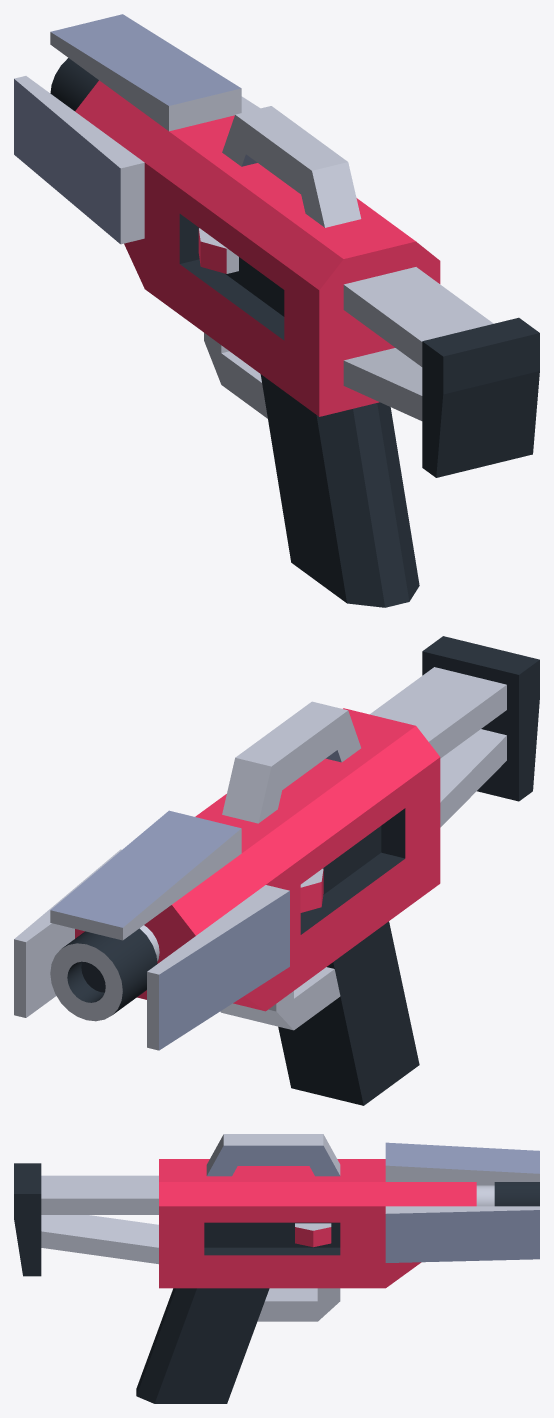
The model's file is blasterN.obj.
3 views of the same model, one above another, from view 1: azimuth 30°, elevation 25°; view 2: azimuth 150°, elevation 25°; view 3: azimuth 270°, elevation 25° (orthographic). The views are drawn at different scales.
Parts seen in each view (by area): view 1: blasterN; view 2: blasterN; view 3: blasterN.
Boxes of the visible parts, left/top/right/bottom form: blasterN: left=14, top=14, right=539, bottom=607; blasterN: left=14, top=636, right=539, bottom=1105; blasterN: left=14, top=1134, right=539, bottom=1403.
Size of the model in its own units: 0.14 by 0.3075 by 0.58.
